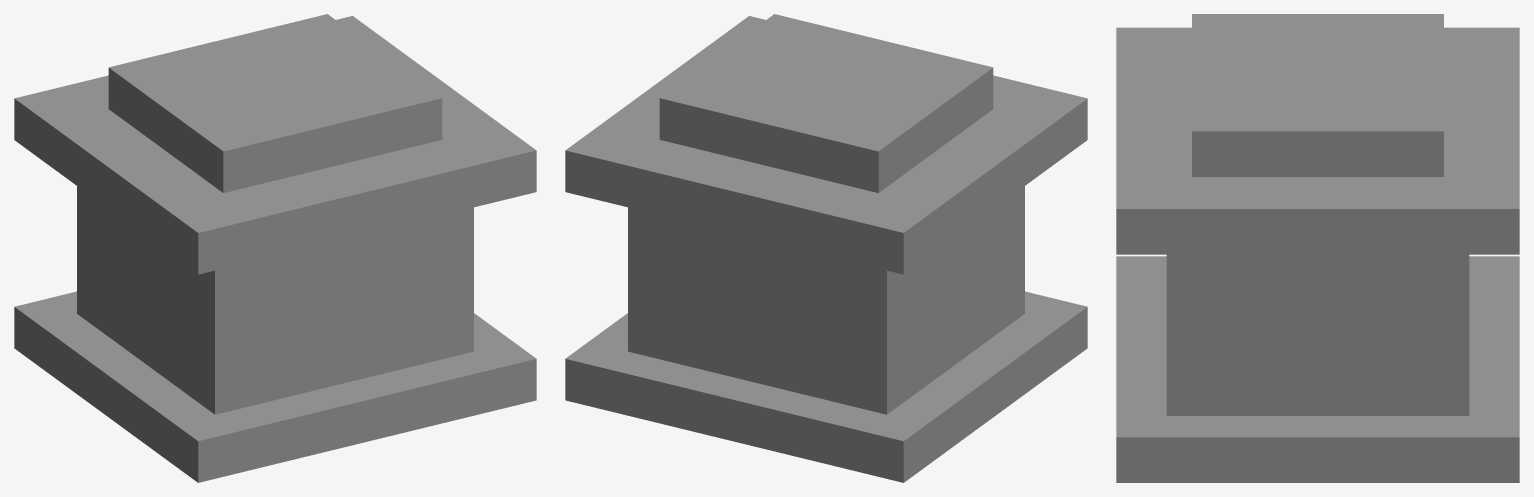
File: mapkari-7.obj
3 renders of one model, left to right at view 1: azimuth 30°, elevation 25°; view 2: azimuth 150°, elevation 25°; view 3: azimuth 270°, elevation 25°, orthographic. The views are drawn at different scales.
Parts seen in each view (by area): view 1: mapkari-7; view 2: mapkari-7; view 3: mapkari-7.
Boxes of the visible parts, box(x1,y1,x2,y2) form: mapkari-7: box(14, 14, 536, 482); mapkari-7: box(565, 14, 1087, 482); mapkari-7: box(1116, 14, 1519, 482).
Bounding box in the file's own units: 17 × 14 × 16.
Materials: 1 (1 with a texture image).
